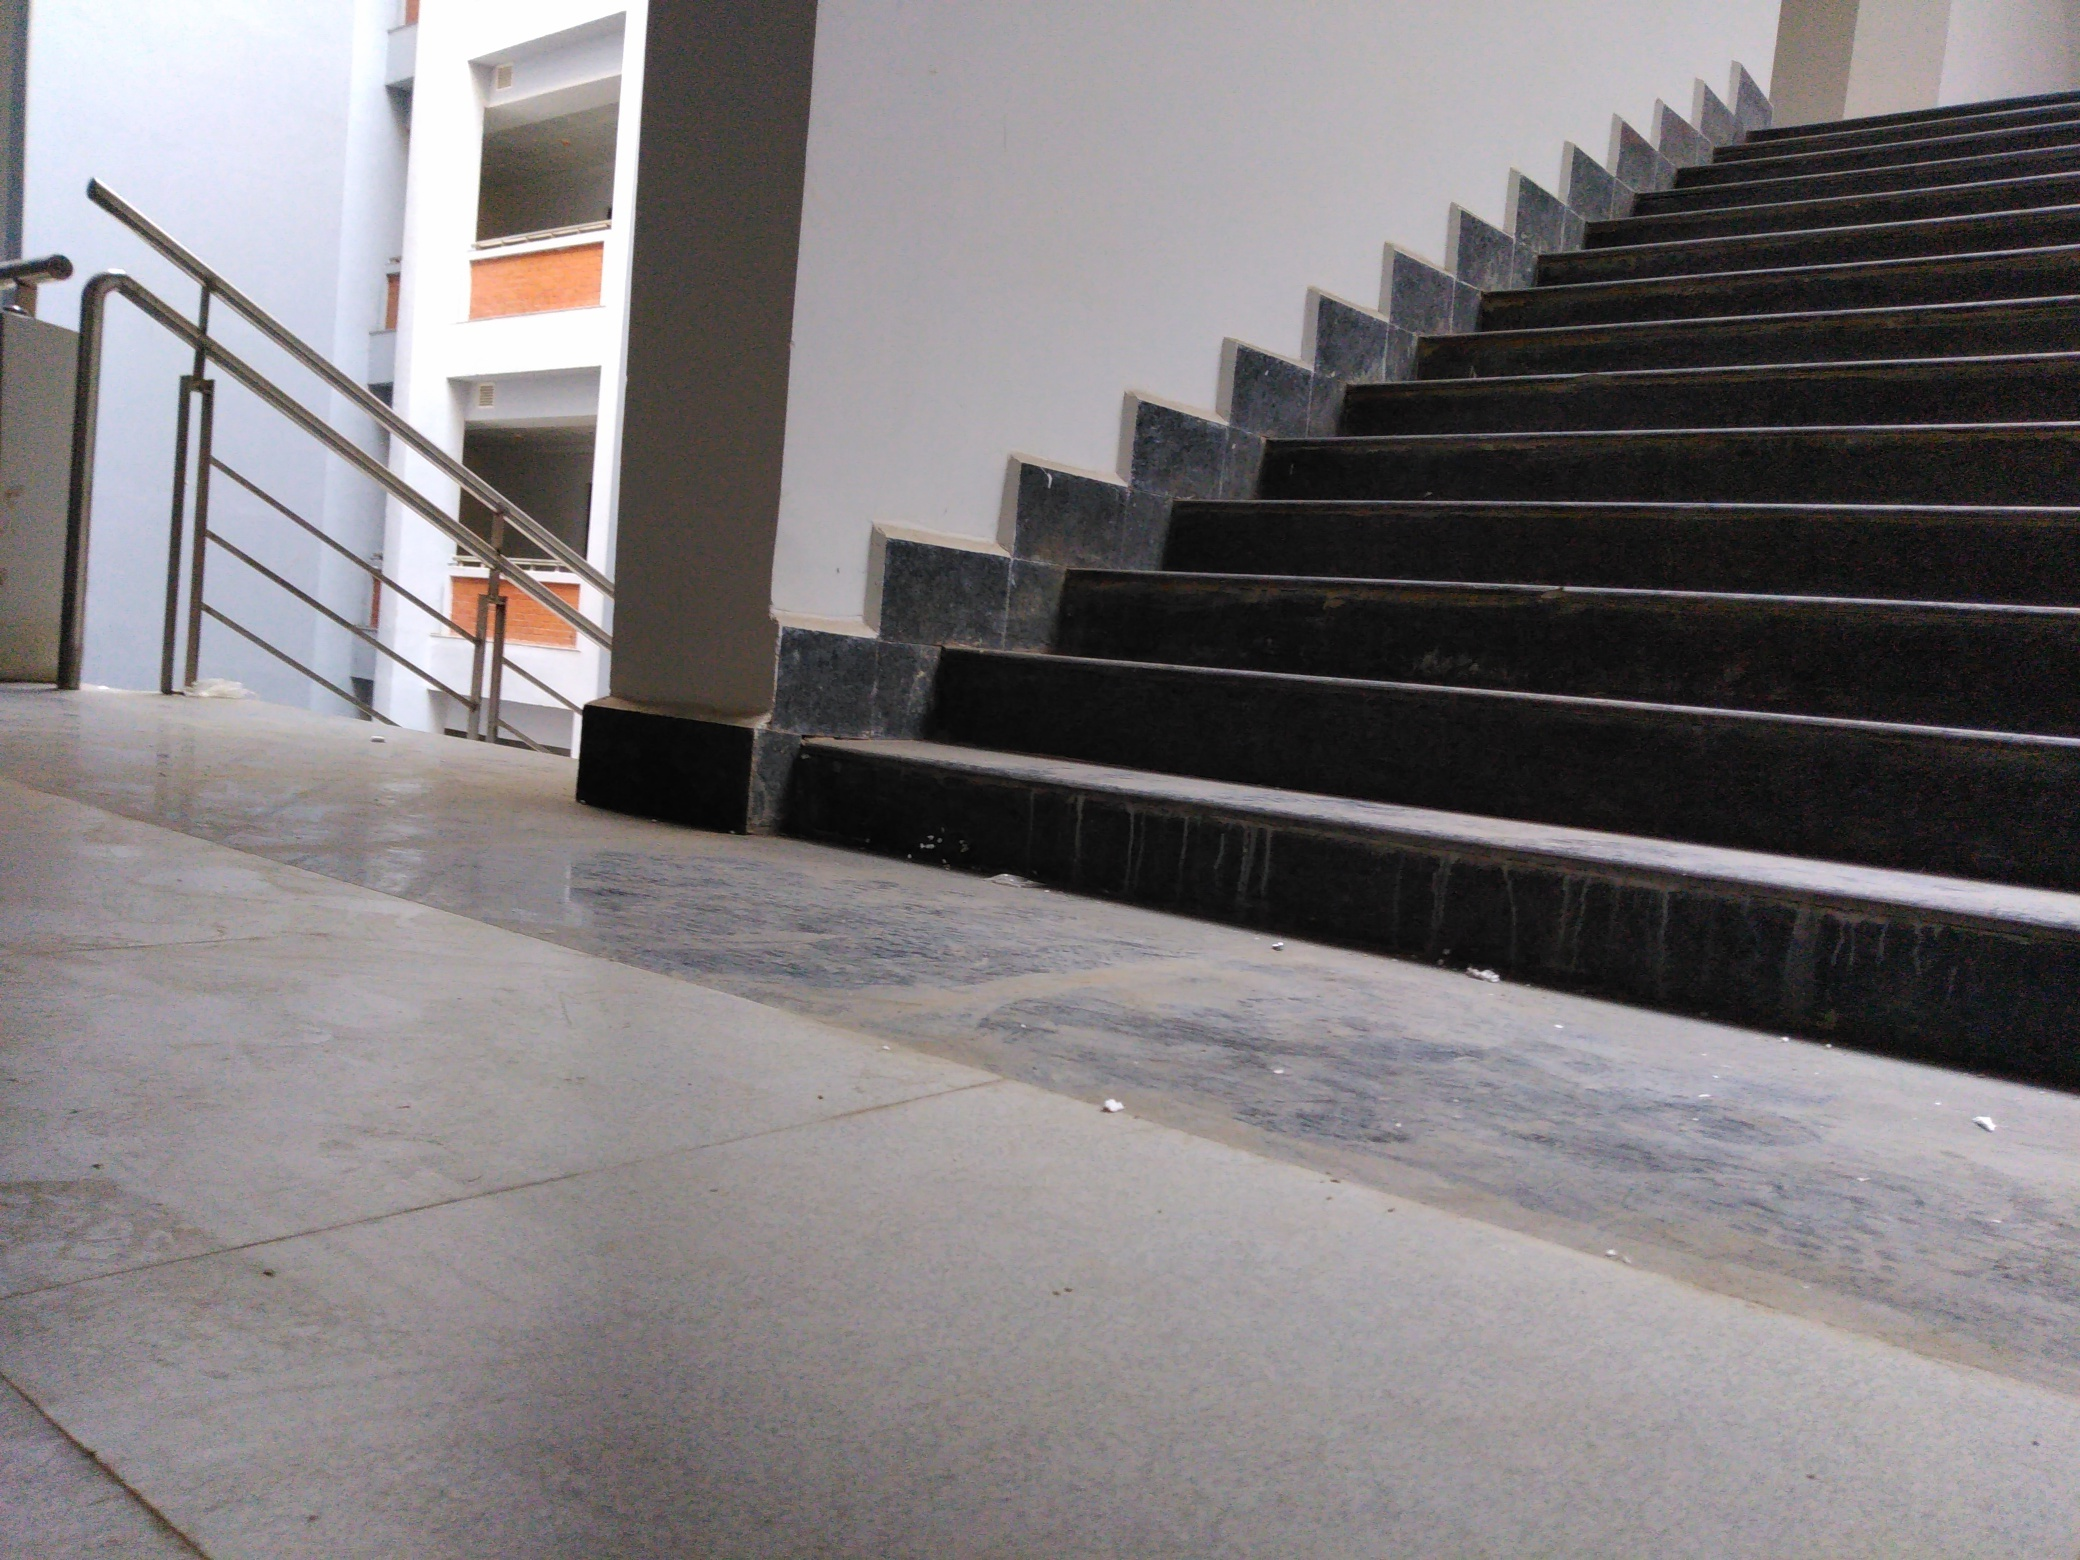stairs_up: (825, 98, 2059, 977)
